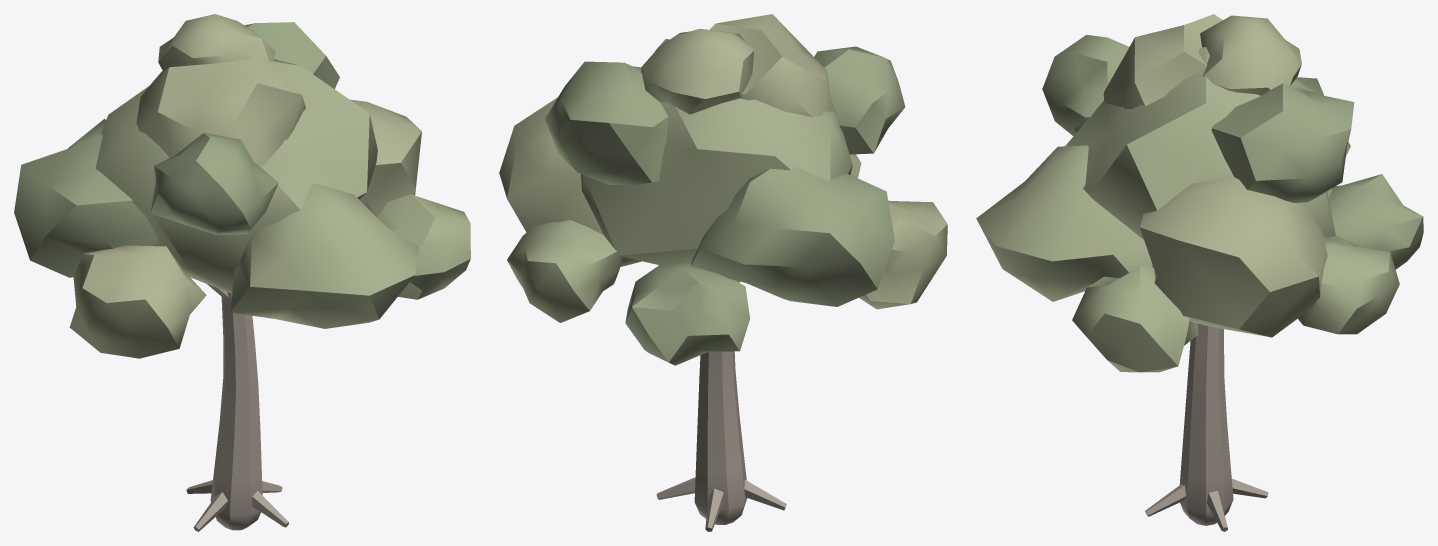
The model's file is tree_ash.gltf.
3 views of the same model, side by side, from view 1: azimuth 30°, elevation 25°; view 2: azimuth 150°, elevation 25°; view 3: azimuth 270°, elevation 25° (orthographic). The views are drawn at different scales.
Parts seen in each view (by area): view 1: Body; view 2: Body; view 3: Body.
Part boxes in pixels (x1,y1,x2,y2): Body: [14, 14, 470, 531]; Body: [499, 14, 947, 531]; Body: [976, 14, 1423, 531].
Bounding box in the file's own units: 4.83 × 6.04 × 4.89.
